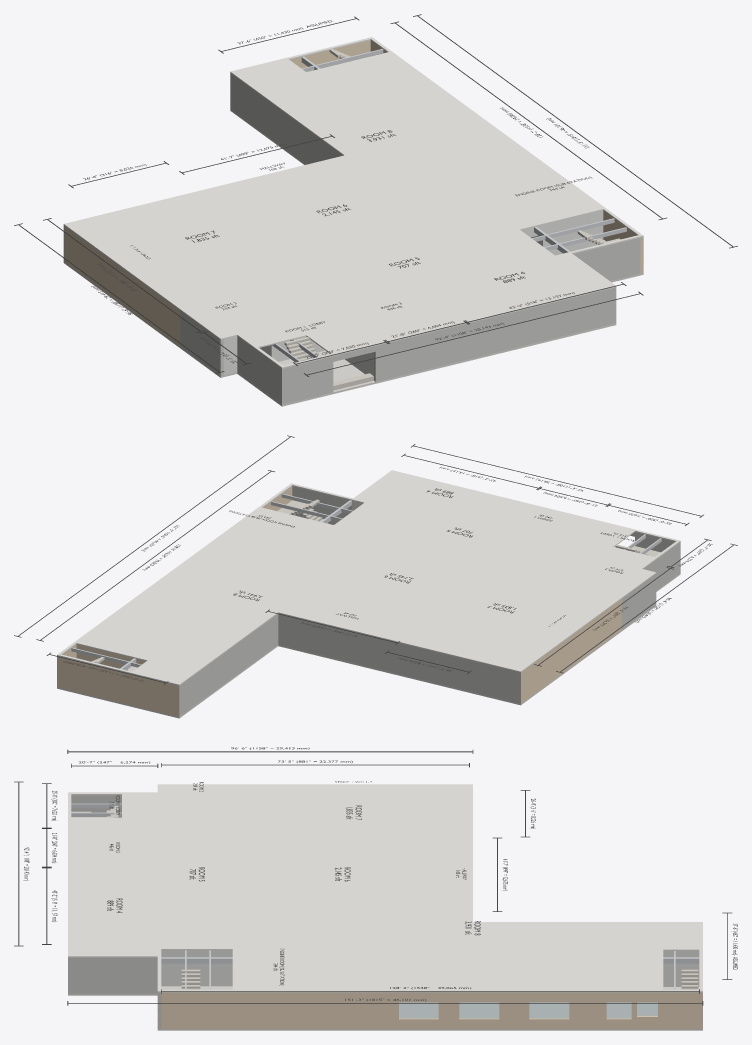
File: garment_factory_ground_floor_phase1.glb
The picture shows the model from 3 angles, top to bottom: view 1: azimuth 30°, elevation 25°; view 2: azimuth 150°, elevation 25°; view 3: azimuth 270°, elevation 25°; orthographic projection. The views are drawn at different scales.
Parts seen in each view (by area): view 1: Steel deck (floor above), EW01 Front facade with main gate, EW06 Washroom row west wall, EW08 Room 8 west wall, north part, Floor slab, EW04 South wall of the east stair, EW02 Room 1 west wall, EW07 Room 2 west wall, IW14 South-east stair, north wall, IW01 Row wall, rooms 1 and 2, EW09 Room 8 north wall, EW10 Room 8 east wall; view 2: Steel deck (floor above), EW05 Middle block north wall, EW09 Room 8 north wall, EW06 Washroom row west wall, EW08 Room 8 west wall, north part, Floor slab, EW07 Room 2 west wall, EW02 Room 1 west wall, EW04 South wall of the east stair, IW10 North-east stair, south wall; view 3: Steel deck (floor above), EW10 Room 8 east wall, Floor slab, EW03 Room 4 east wall, IW15 South-east stair, west wall, IW11 North-east stair, west wall, DIM west overall, BM003 Room 8 main beam, W08 glass, W09 glass, W10 glass, EW02 Room 1 west wall (+3 smaller).
Part boxes in pixels (x1,y1,x2,y2): Steel deck (floor above): (63, 37, 643, 368); EW01 Front facade with main gate: (280, 287, 616, 404); EW06 Washroom row west wall: (63, 225, 180, 345); EW08 Room 8 west wall, north part: (230, 73, 342, 164); Floor slab: (63, 109, 643, 406); EW04 South wall of the east stair: (573, 237, 643, 280); EW02 Room 1 west wall: (237, 336, 284, 404); EW07 Room 2 west wall: (180, 311, 223, 375); IW14 South-east stair, north wall: (521, 210, 603, 255); IW01 Row wall, rooms 1 and 2: (219, 336, 324, 375); EW09 Room 8 north wall: (290, 40, 370, 71); EW10 Room 8 east wall: (370, 40, 643, 273); Steel deck (floor above): (57, 470, 680, 685); EW05 Middle block north wall: (278, 614, 520, 703); EW09 Room 8 north wall: (57, 656, 179, 716); EW06 Washroom row west wall: (518, 599, 621, 703); EW08 Room 8 west wall, north part: (179, 614, 278, 716); Floor slab: (57, 573, 680, 718); EW07 Room 2 west wall: (621, 574, 656, 629); EW02 Room 1 west wall: (643, 542, 680, 590); EW04 South wall of the east stair: (292, 486, 351, 524); IW10 North-east stair, south wall: (76, 644, 146, 670); Steel deck (floor above): (68, 784, 702, 992); EW10 Room 8 east wall: (157, 992, 701, 1028); Floor slab: (68, 986, 702, 1030); EW03 Room 4 east wall: (71, 957, 157, 993); IW15 South-east stair, west wall: (161, 950, 232, 986); IW11 North-east stair, west wall: (663, 951, 699, 986); DIM west overall: (67, 749, 473, 753); BM003 Room 8 main beam: (161, 957, 699, 963); W08 glass: (529, 1002, 569, 1018); W09 glass: (459, 1002, 499, 1018); W10 glass: (399, 1002, 438, 1018); EW02 Room 1 west wall: (71, 795, 121, 817).
Size of the model in its own units: 44.38 by 4.01 by 52.56.
